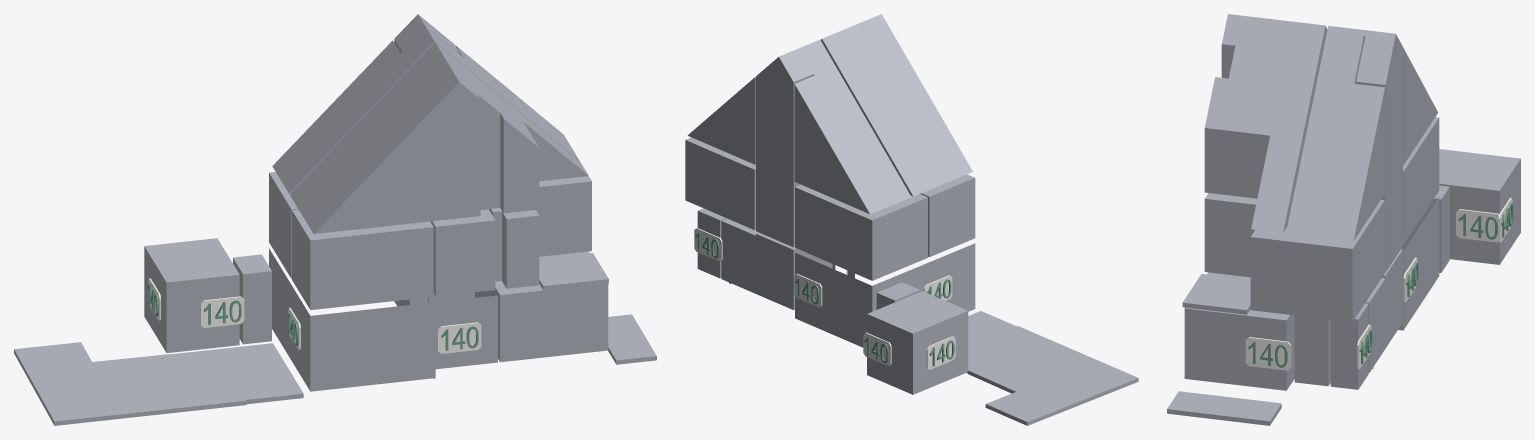
3 views of the same model, side by side, from view 1: azimuth 30°, elevation 25°; view 2: azimuth 150°, elevation 25°; view 3: azimuth 270°, elevation 25° (orthographic). The views are drawn at different scales.
Parts seen in each view (by area): view 1: g_6, g_16, g_1, g_10, g_7, g_0, g_2, g_11, g_12, g_5, g_17, g_9 (+4 smaller); view 2: g_7, g_6, g_16, g_9, g_0, g_1, g_3, g_8, g_11, g_10, g_14, g_4 (+5 smaller); view 3: g_6, g_7, g_11, g_2, g_0, g_3, g_8, g_9, g_1, g_15, g_4, g_17 (+4 smaller).
Boxes of the visible parts, bbox=[...] form: g_6: bbox=[290, 42, 588, 233]; g_16: bbox=[14, 342, 303, 425]; g_1: bbox=[269, 248, 497, 391]; g_10: bbox=[292, 209, 433, 310]; g_7: bbox=[272, 27, 579, 193]; g_0: bbox=[144, 238, 239, 352]; g_2: bbox=[475, 251, 608, 362]; g_11: bbox=[489, 162, 591, 288]; g_12: bbox=[430, 209, 495, 296]; g_5: bbox=[233, 254, 271, 344]; g_17: bbox=[539, 253, 608, 290]; g_9: bbox=[269, 172, 298, 278]; g_7: bbox=[687, 39, 911, 214]; g_6: bbox=[820, 14, 972, 196]; g_16: bbox=[966, 311, 1138, 425]; g_9: bbox=[795, 184, 927, 280]; g_0: bbox=[867, 291, 968, 394]; g_1: bbox=[795, 243, 975, 347]; g_3: bbox=[721, 218, 832, 309]; g_8: bbox=[756, 48, 813, 181]; g_11: bbox=[685, 137, 755, 230]; g_10: bbox=[920, 174, 975, 257]; g_14: bbox=[756, 165, 800, 247]; g_4: bbox=[697, 208, 726, 278]; g_6: bbox=[1204, 14, 1327, 232]; g_7: bbox=[1286, 26, 1438, 241]; g_11: bbox=[1204, 193, 1384, 321]; g_2: bbox=[1184, 272, 1294, 390]; g_0: bbox=[1439, 149, 1520, 264]; g_3: bbox=[1294, 249, 1402, 386]; g_8: bbox=[1356, 30, 1402, 193]; g_9: bbox=[1403, 117, 1439, 244]; g_1: bbox=[1398, 197, 1439, 330]; g_15: bbox=[1167, 391, 1281, 425]; g_4: bbox=[1330, 303, 1368, 389]; g_17: bbox=[1182, 274, 1250, 314].
Bounding box in the file's own units: 19.53 × 10.25 × 10.49.
